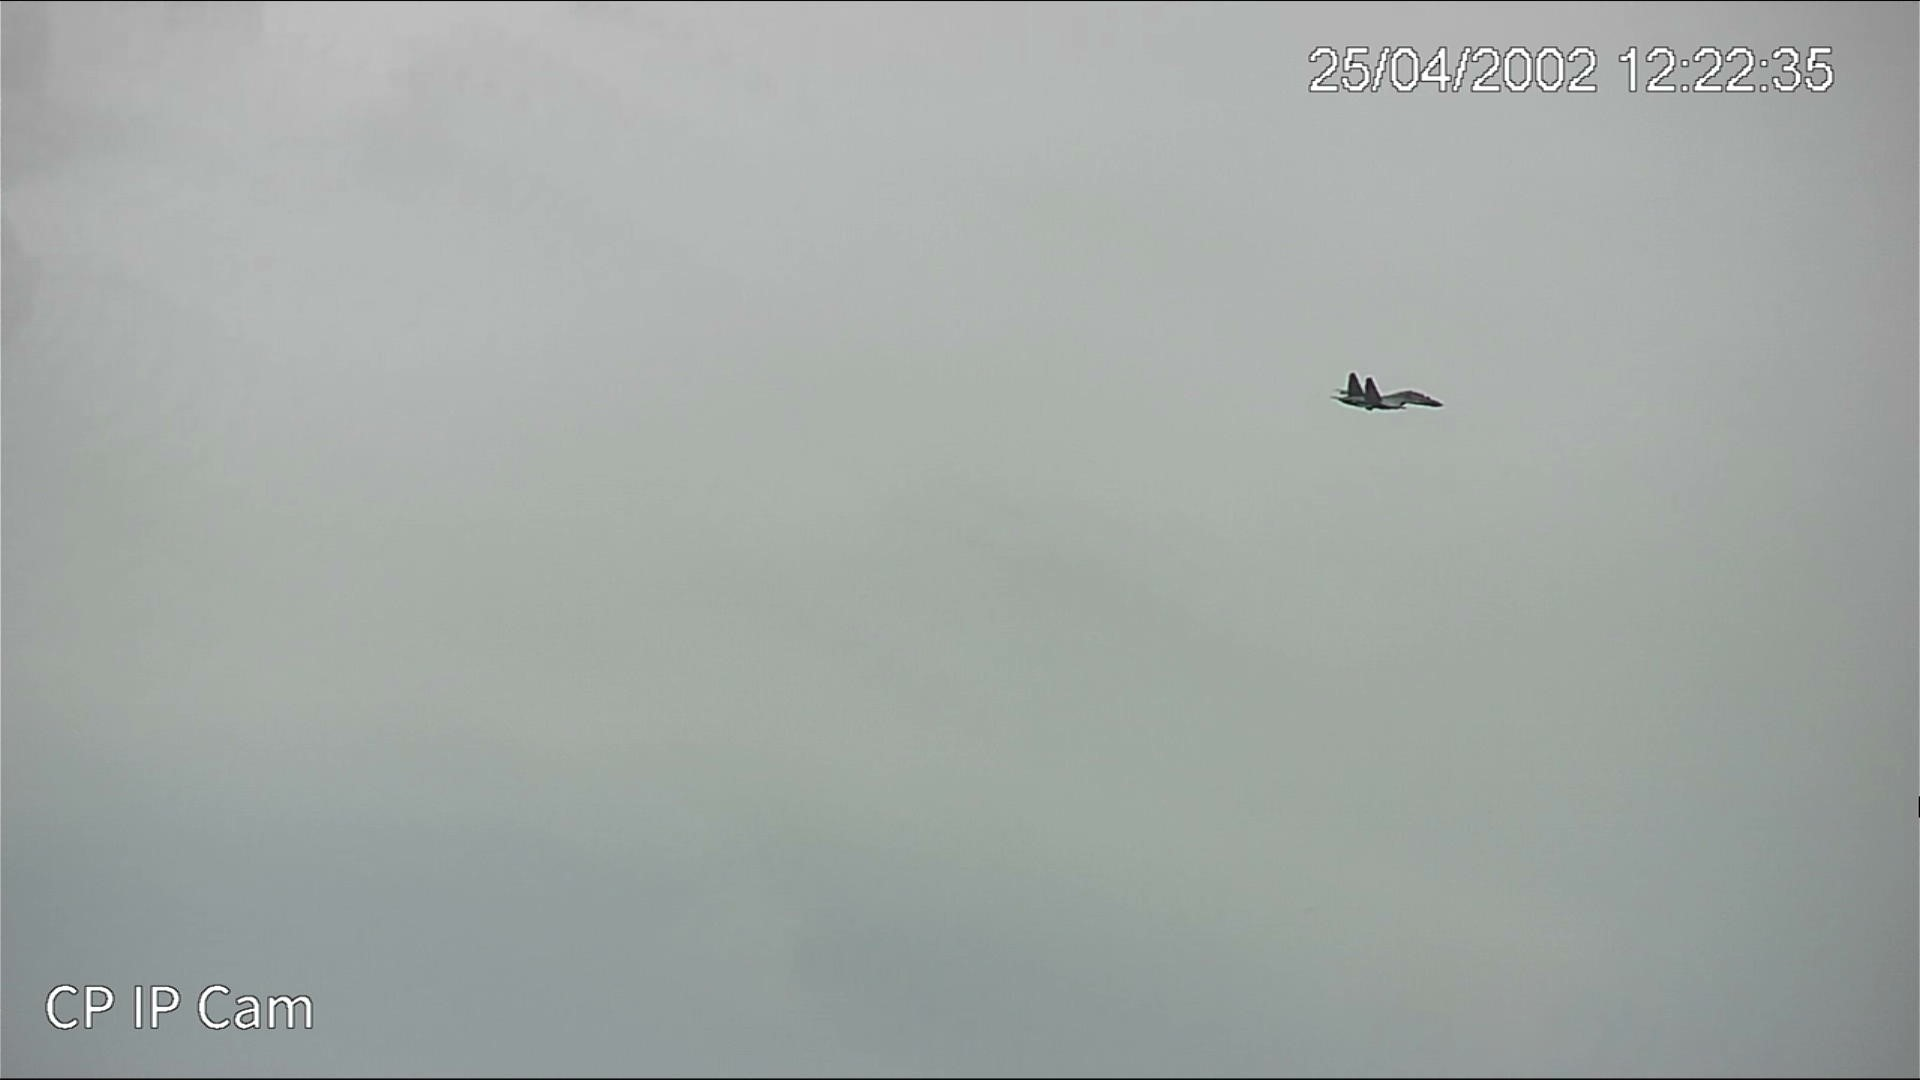SU_30: (1331, 371, 1439, 422)
